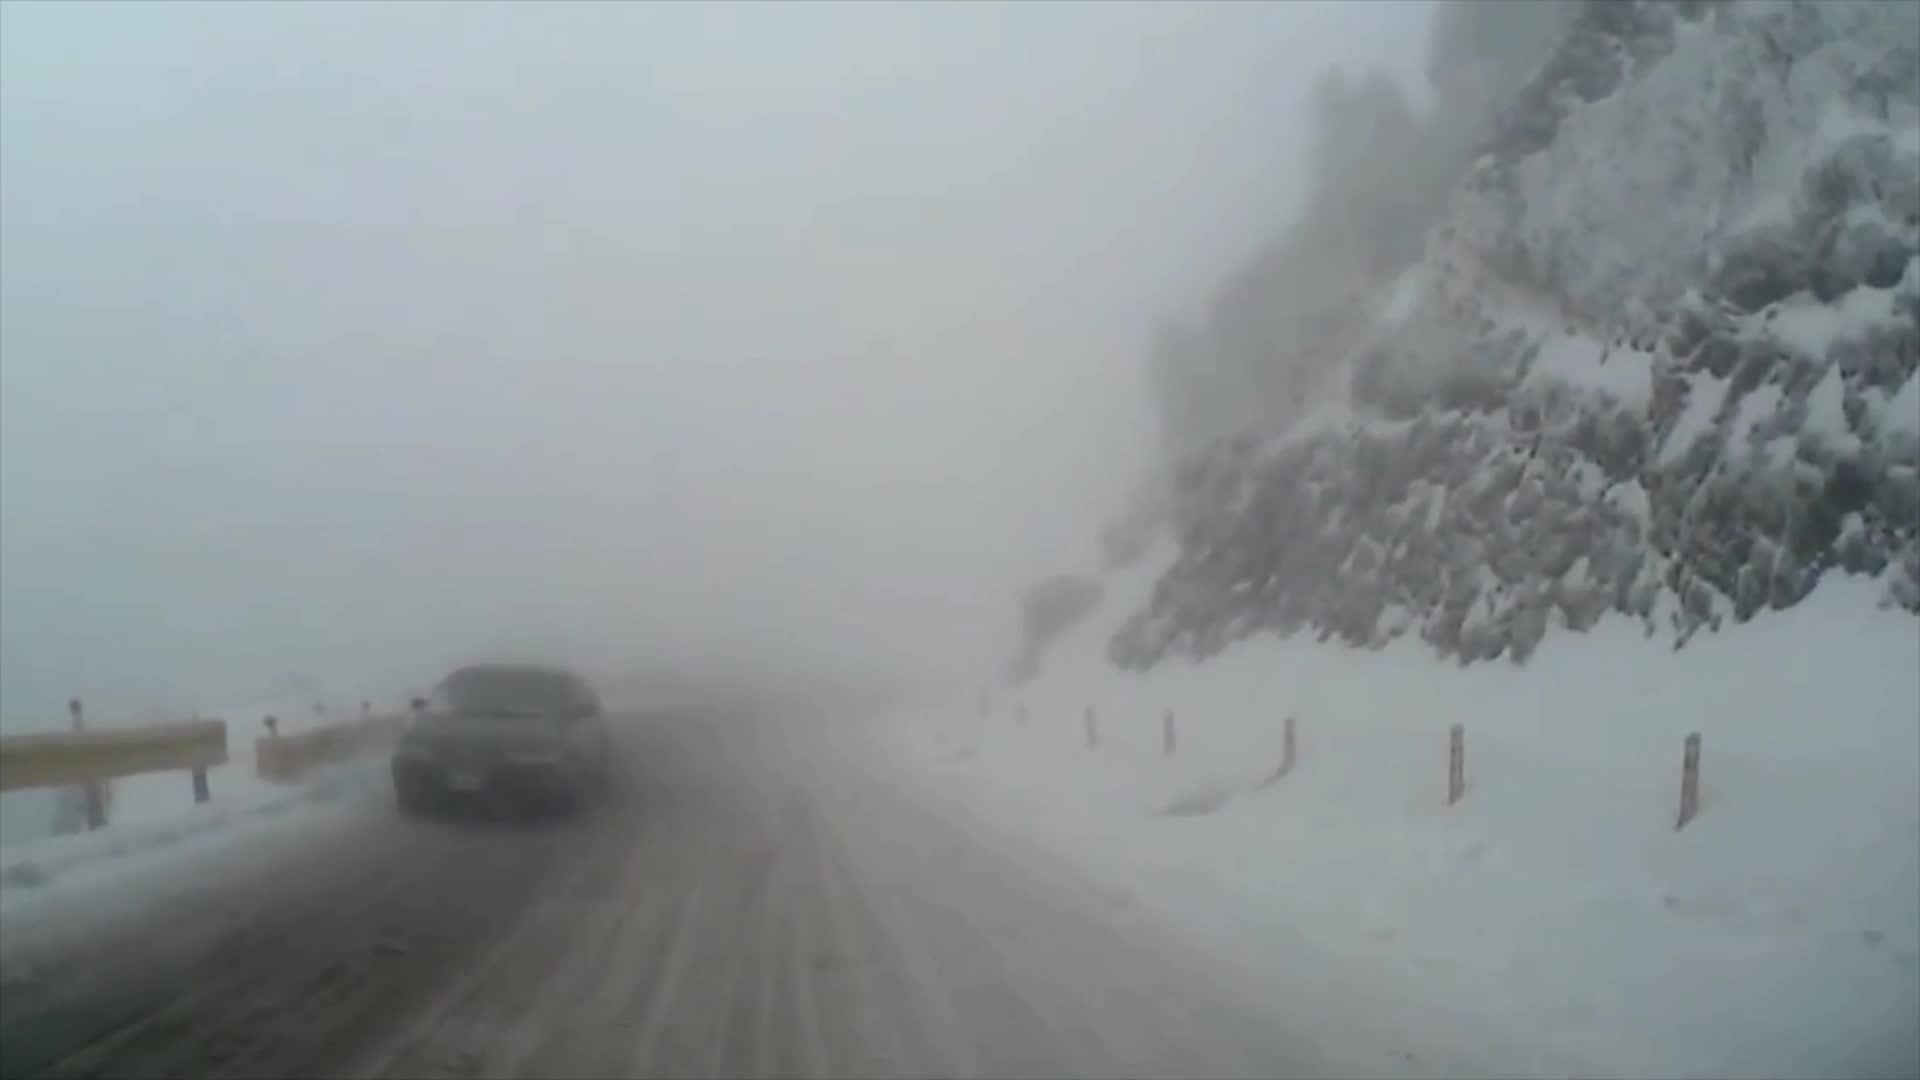vehicle: (389, 665, 613, 825)
